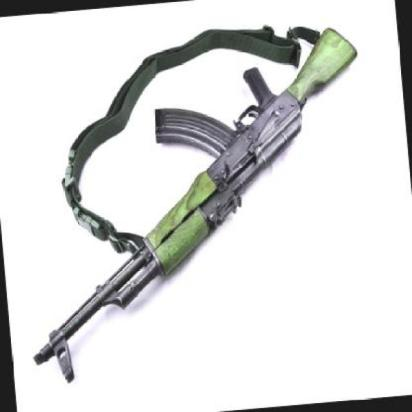Gun: (31, 28, 357, 383)
